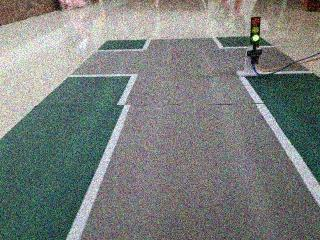green: (245, 12, 266, 47)
